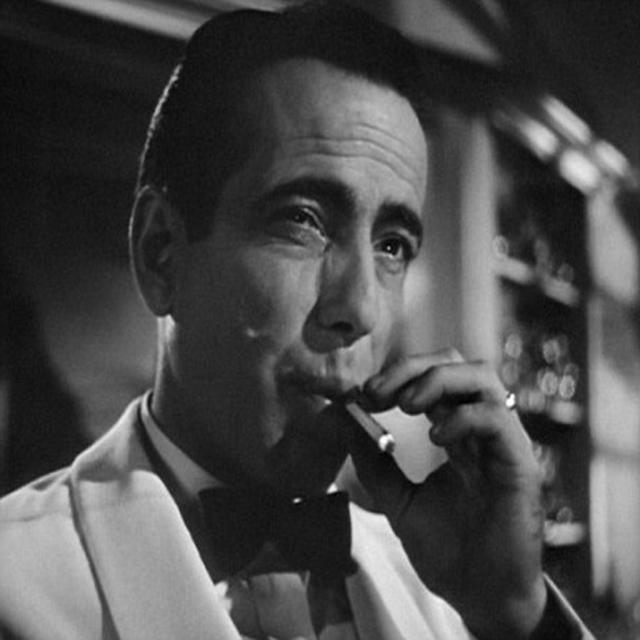smoking: (114, 3, 549, 622)
